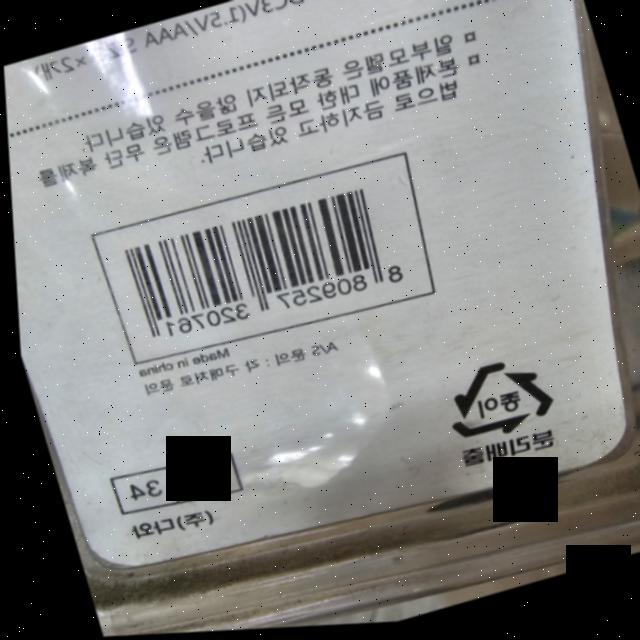Paper: (430, 351, 557, 454)
